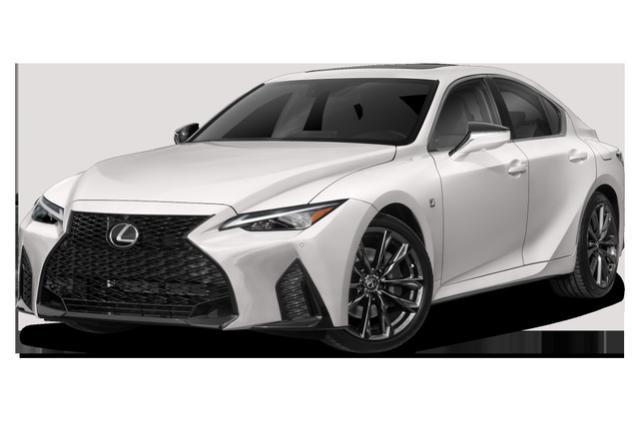lexus: (15, 63, 625, 355)
